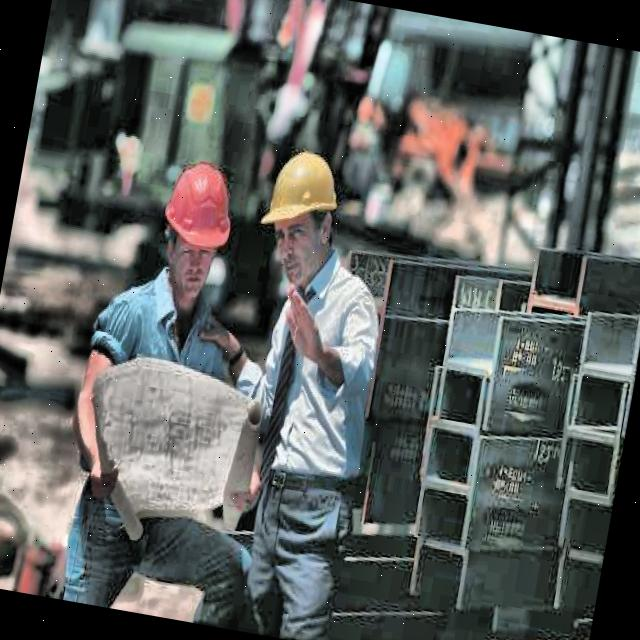helmet: (248, 125, 362, 292), (147, 158, 246, 313)
